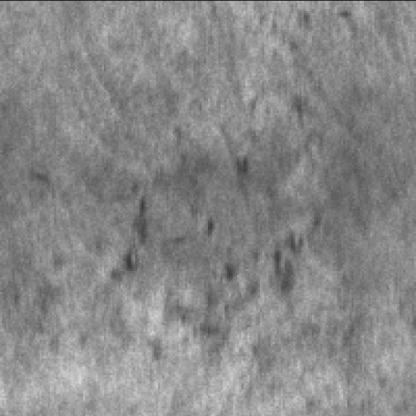rolled-in_scale: (106, 164, 308, 331), (239, 2, 345, 75)
